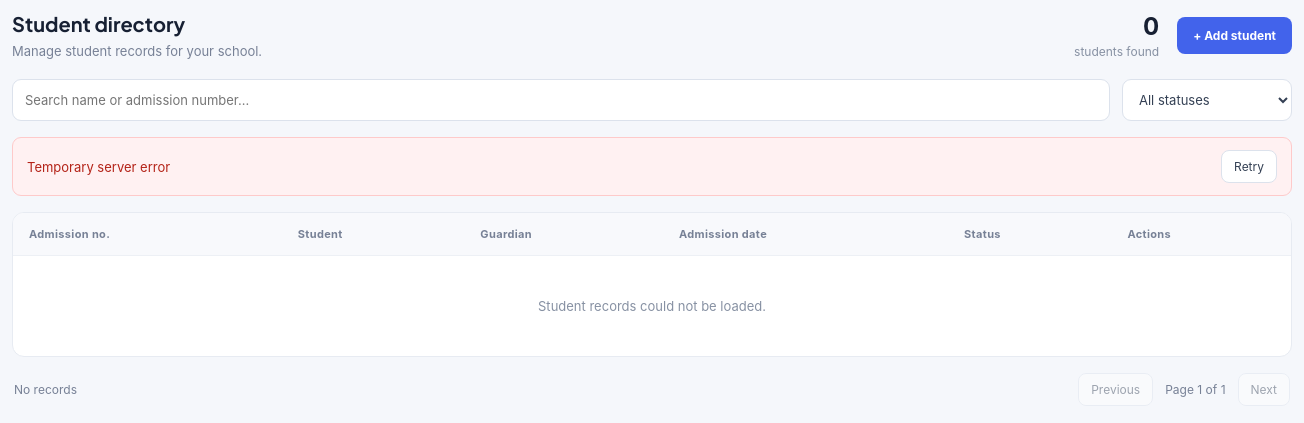
StudentDirectory › retries loading students and displays records after recovery
Check: the message shows "Temporary server error", box [27, 158, 170, 174]
Click the button "Retry": (1249, 166) [1221, 150, 1277, 183]
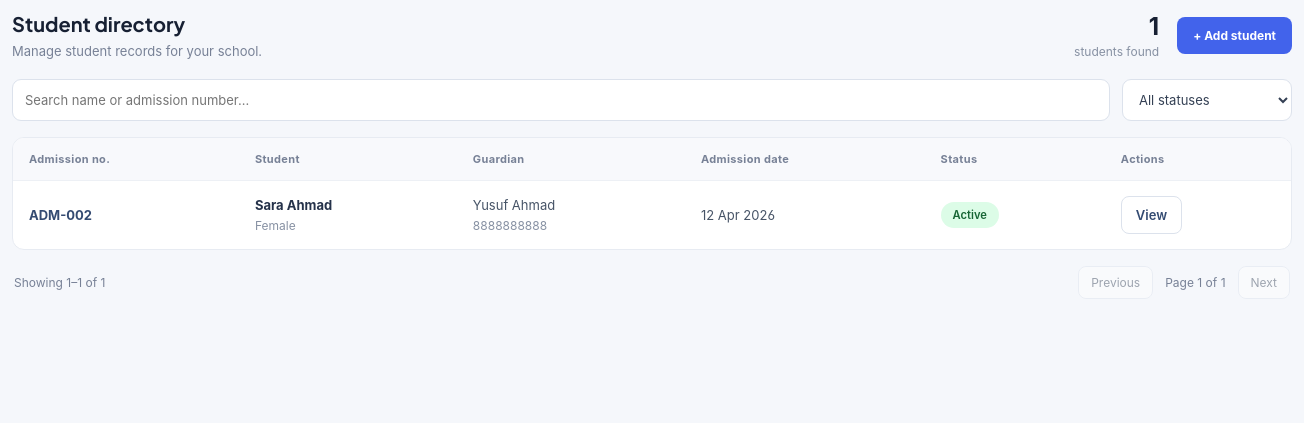
Check: the text "Sara Ahmad" is shown, box [255, 197, 332, 213]
Check: the text "ADM-002" is shown, box [29, 207, 92, 223]
